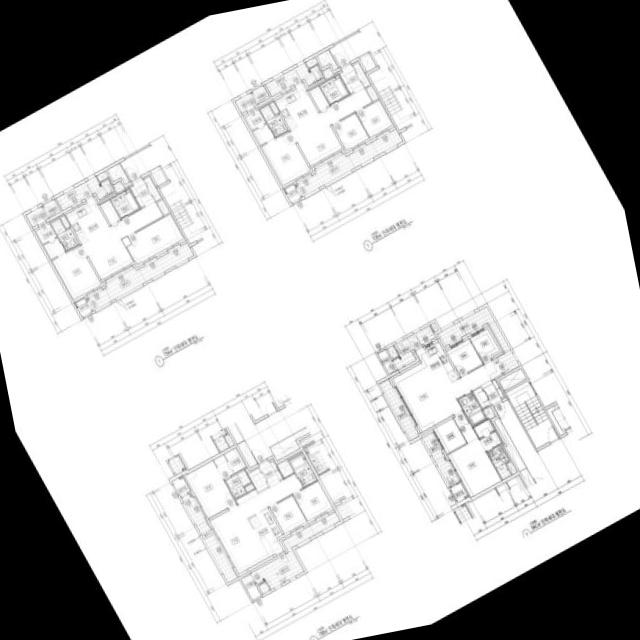background: (0, 0, 640, 640)
space_balconi: (295, 129, 403, 197), (86, 243, 194, 311), (252, 511, 340, 590), (438, 307, 520, 374), (181, 493, 237, 582), (379, 379, 419, 441), (56, 176, 115, 211), (265, 62, 324, 97), (423, 432, 459, 487), (393, 325, 436, 370), (26, 207, 48, 227), (235, 93, 257, 113)
space_bedroom: (448, 412, 502, 497), (185, 461, 236, 518), (127, 214, 184, 264), (52, 245, 102, 299), (262, 131, 311, 185), (294, 481, 333, 521), (270, 495, 307, 534), (333, 113, 369, 150), (357, 100, 393, 137), (447, 339, 483, 376), (470, 329, 500, 363)
space_dressroom: (245, 109, 275, 145), (36, 223, 66, 259), (214, 448, 246, 479), (474, 419, 502, 451)
space_front: (130, 176, 161, 209), (339, 64, 365, 94), (259, 460, 283, 487), (481, 379, 505, 403)
space_kitchen: (416, 341, 459, 391), (65, 196, 110, 243), (275, 83, 319, 129), (248, 507, 283, 557)
space_living_room: (210, 473, 303, 574), (393, 359, 502, 432), (81, 202, 163, 280), (290, 88, 372, 166)
space_multipurpose_space: (434, 418, 467, 453)
space_other: (494, 418, 527, 472), (500, 368, 527, 390), (241, 574, 262, 600), (309, 86, 330, 110), (100, 200, 121, 224), (248, 468, 269, 492), (378, 350, 397, 375), (108, 163, 130, 184), (317, 49, 339, 70), (353, 63, 370, 87), (473, 387, 490, 408), (43, 199, 61, 218), (150, 166, 167, 186), (359, 52, 376, 72), (253, 85, 270, 104), (278, 460, 294, 478), (366, 86, 378, 101), (157, 200, 169, 215), (483, 406, 495, 418), (388, 346, 399, 359), (114, 182, 125, 194), (306, 57, 318, 68), (259, 582, 270, 594), (97, 171, 109, 182), (323, 69, 334, 80), (507, 462, 517, 474), (270, 102, 280, 114), (61, 216, 70, 228), (245, 483, 255, 492), (431, 323, 439, 332)
space_outdoor_room: (172, 476, 191, 497), (451, 483, 469, 502), (75, 298, 92, 317), (284, 184, 301, 203)
space_staircase: (507, 381, 559, 448)
space_toilet: (458, 392, 487, 426), (289, 453, 318, 487), (51, 218, 79, 251), (260, 105, 288, 137), (487, 445, 512, 480), (111, 189, 140, 219), (320, 75, 349, 105), (225, 469, 252, 499)
